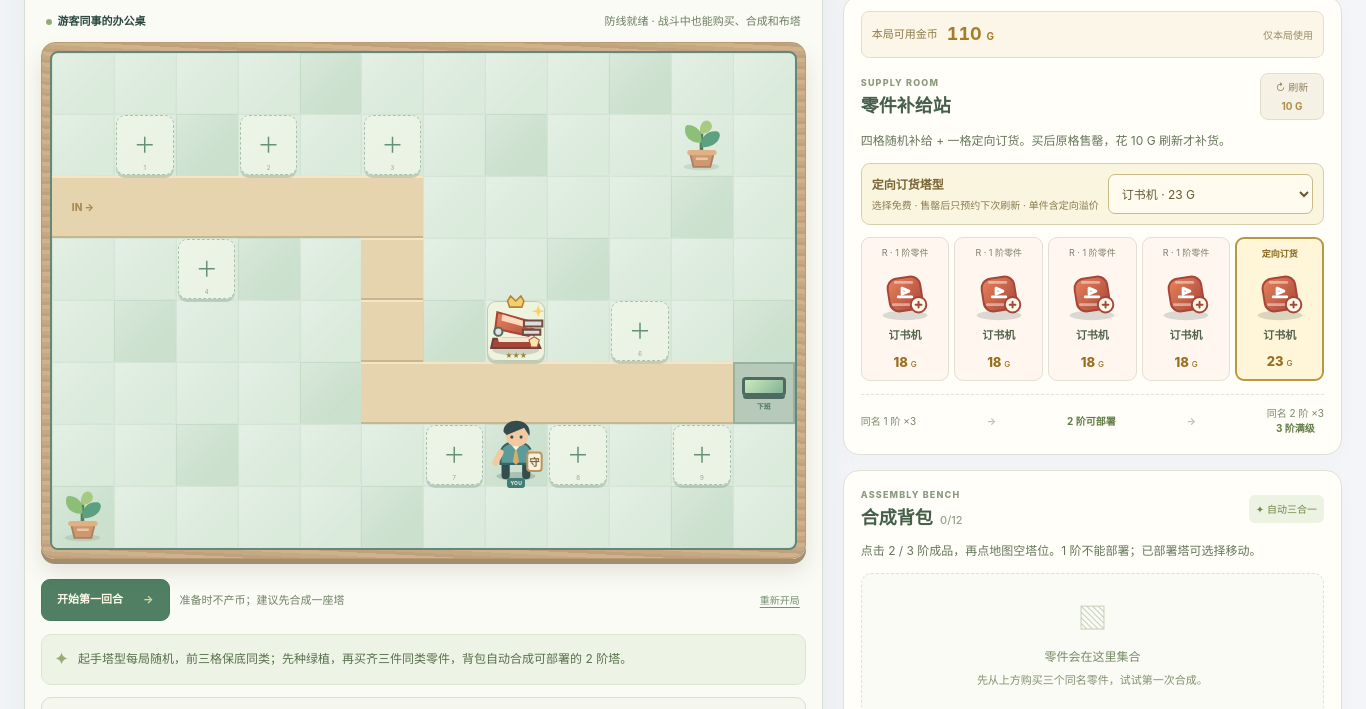
Scenario: WorkstationTowerDefensePage two-round merging edition › moves a local tower without sale or extra cost and lets the user cancel first
(page scrolled)
Step 1. Click the button named "塔位 5，订书机 3 阶" → {"x": 516, "y": 331}, box top-left (488, 301), bottom-right (545, 361)
(page scrolled)
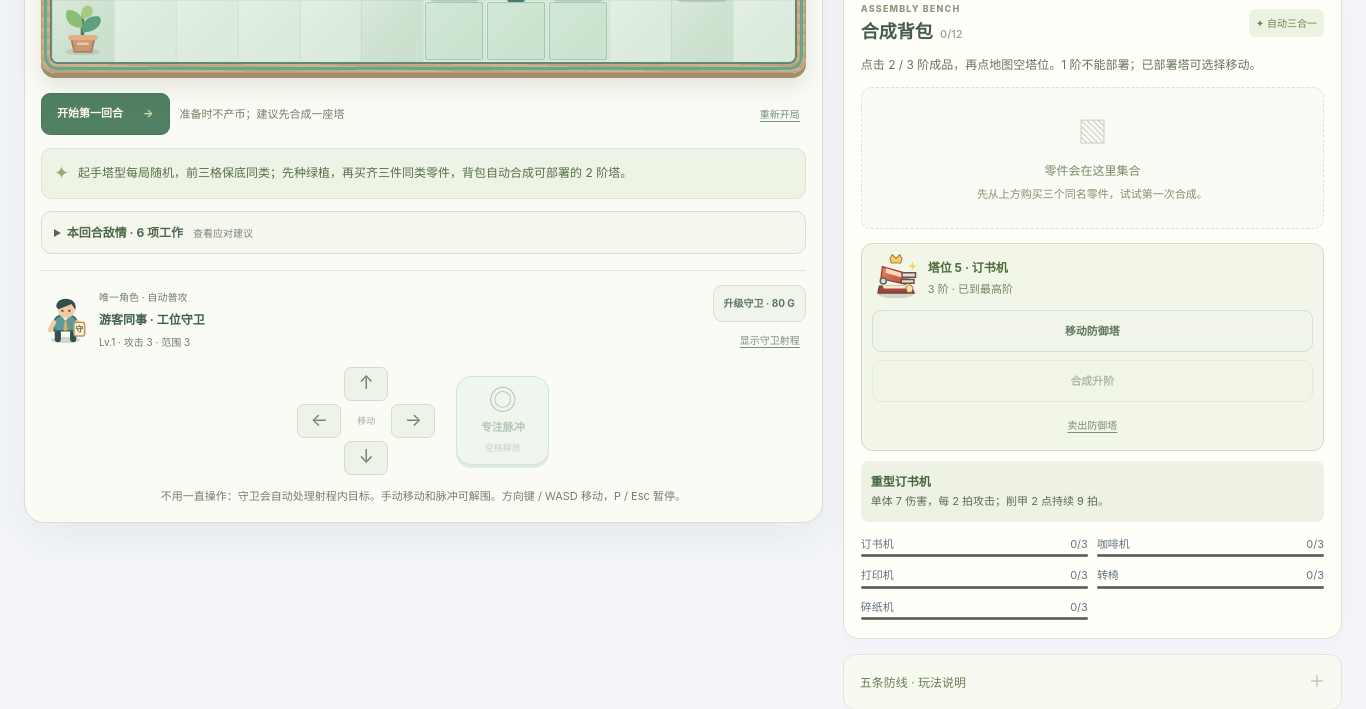
Step 2. Click the button "移动防御塔" → {"x": 1092, "y": 331}, box top-left (872, 310), bottom-right (1313, 352)
(page scrolled)
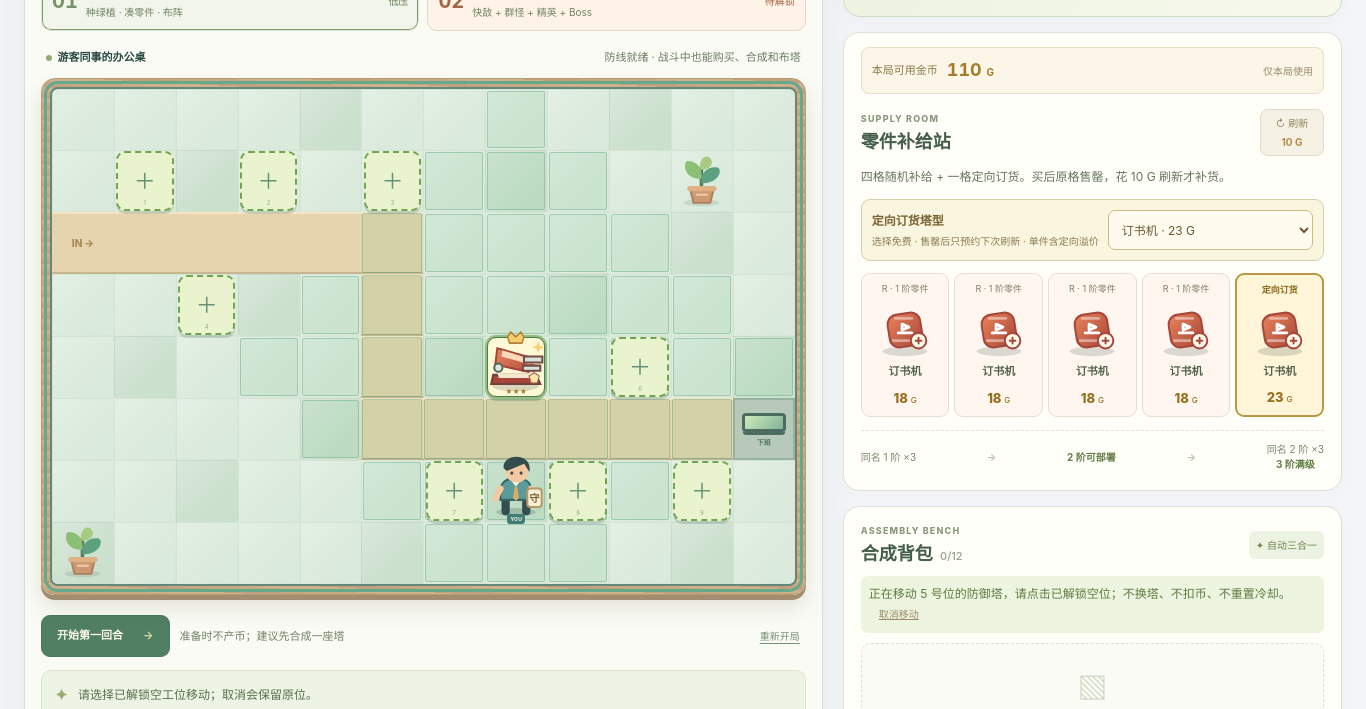
Step 3. Click the button "取消移动" → {"x": 899, "y": 615}, box top-left (874, 604), bottom-right (924, 625)
(page scrolled)
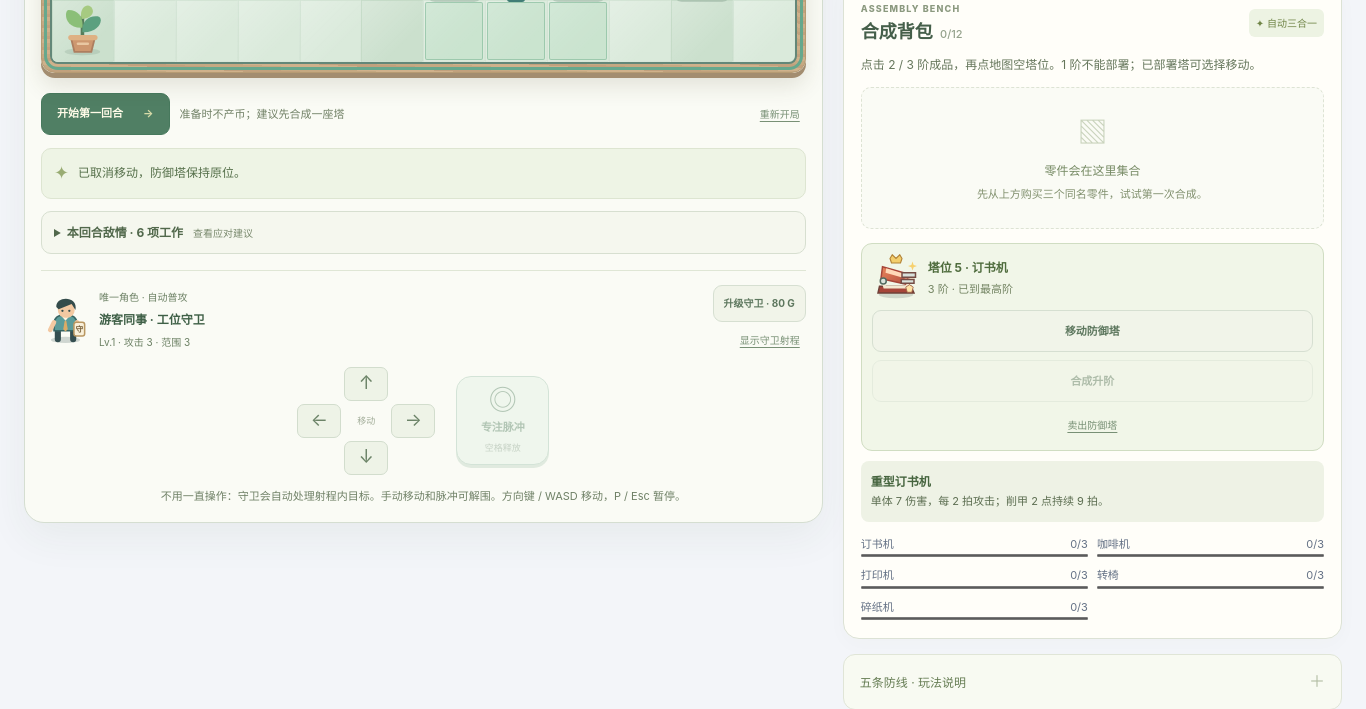
Step 4. Click the button "移动防御塔" → {"x": 1092, "y": 331}, box top-left (872, 310), bottom-right (1313, 352)
(page scrolled)
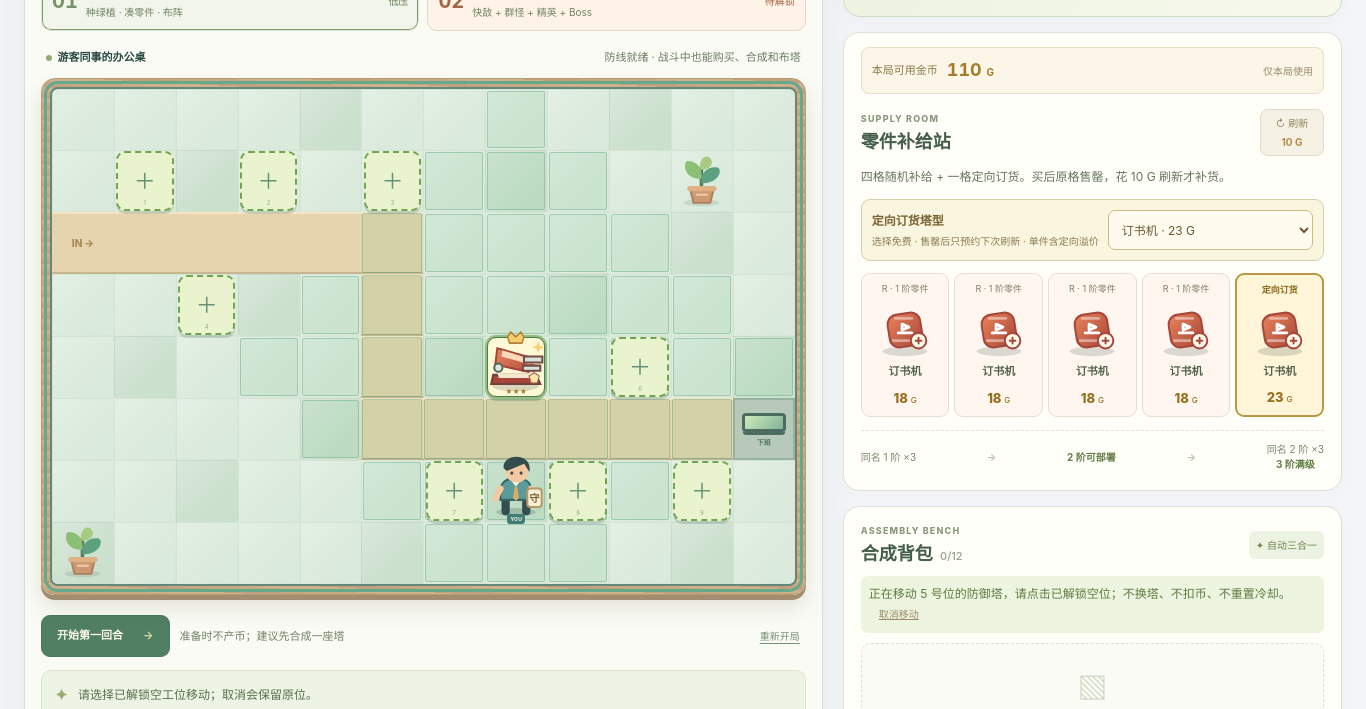
Step 5. Click the button named "空塔位 2" → {"x": 269, "y": 181}, box top-left (240, 152), bottom-right (297, 211)
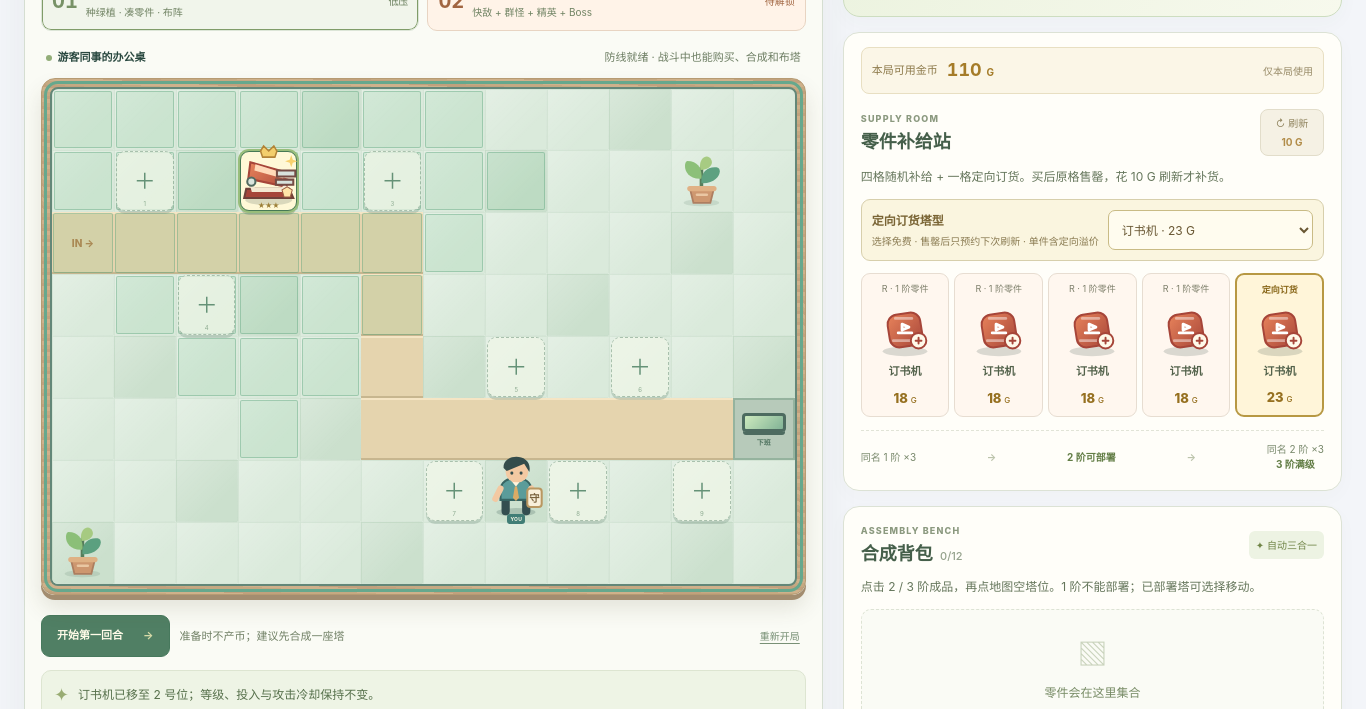
Expected: the button named "塔位 2，订书机 3 阶" is shown, top-left (240, 152), bottom-right (297, 211)
Expected: the button named "空塔位 5" is shown, top-left (488, 337), bottom-right (545, 397)
Expected: the message shows "冷却保持不变", top-left (78, 687), bottom-right (380, 702)
